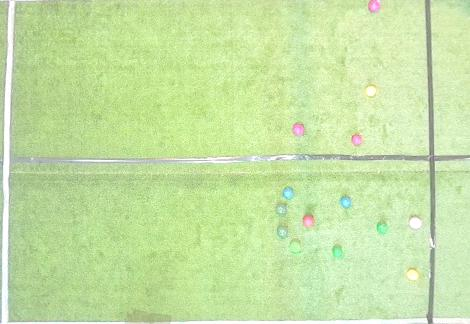blue: (340, 197, 351, 208), (282, 188, 293, 199)
green: (290, 241, 301, 253), (276, 205, 286, 215), (277, 227, 287, 237), (332, 247, 342, 257), (377, 223, 387, 233)
red: (409, 216, 422, 229), (302, 215, 314, 226), (369, 0, 380, 12), (293, 124, 303, 136), (352, 135, 362, 146)
vline: (424, 0, 469, 323), (0, 0, 18, 323)
white: (377, 0, 380, 3)
yellow: (365, 86, 376, 97), (407, 270, 418, 281)
